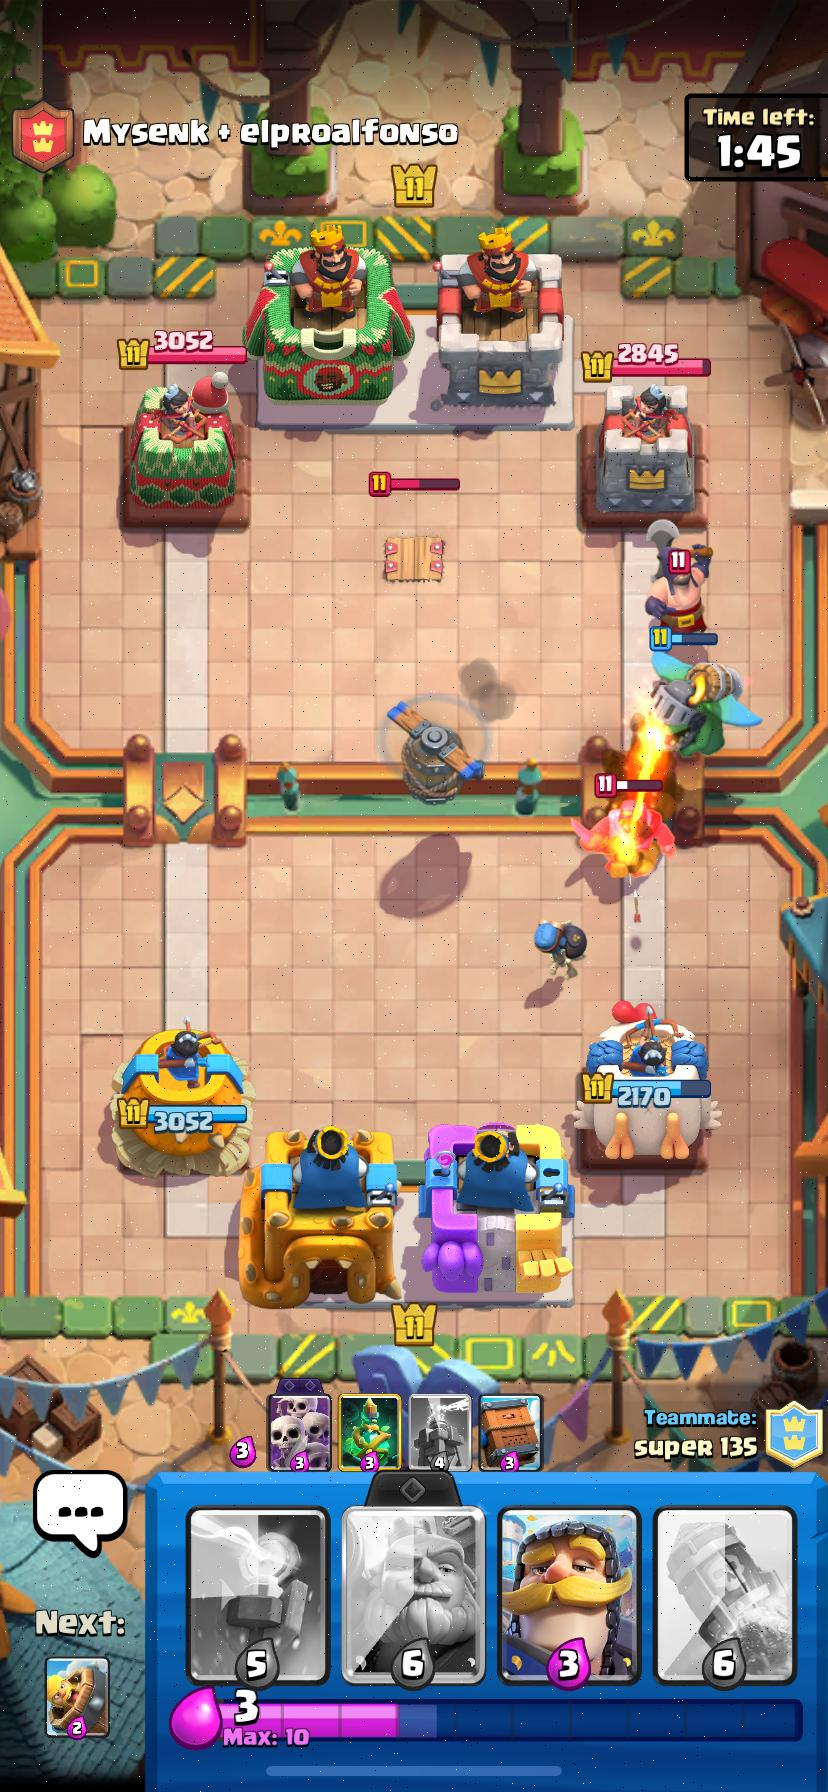EEX: (645, 542, 711, 633)
EKingTower: (246, 223, 411, 405), (437, 226, 565, 409)
EKnight: (586, 795, 675, 878)
ETesla: (384, 537, 444, 579)
EnemyPrincessTower: (124, 373, 236, 523), (595, 379, 694, 522)
OBomber: (534, 921, 586, 977)
OFlyingMachine: (387, 701, 483, 805)
OInfernoDrag: (652, 654, 757, 757)
OwnKingTower: (419, 1123, 573, 1301), (261, 1125, 401, 1306)
OwnPrincessTower: (114, 1029, 253, 1174), (581, 1017, 710, 1160)
